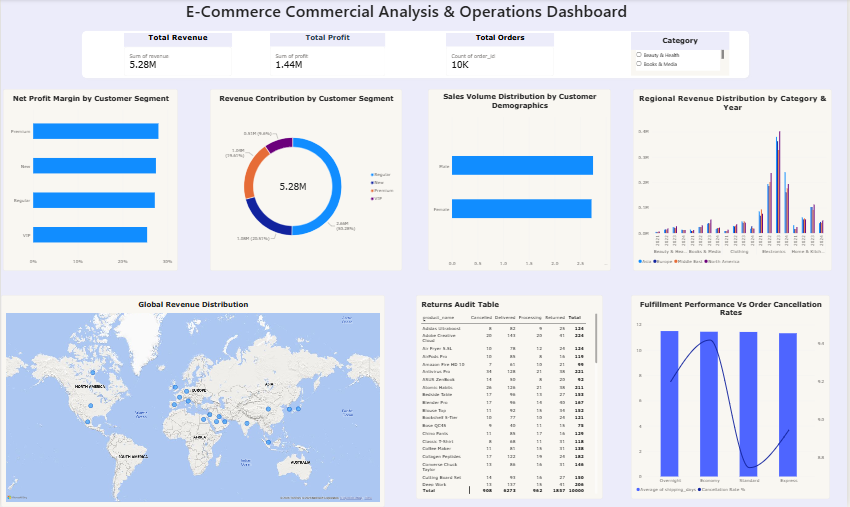

The dashboard page shown, as its layout file describes it:
{"tool":"powerbi","page":{"name":"Page 1","canvas":[2750,1650],"ordinal":0},"visuals":[{"type":"shape","box":[253.3,94.2,2185.9,172.1],"z":0},{"type":"lineClusteredColumnComboChart","title":"Fulfillment Performance Vs Order Cancellation Rates  ","fields":{"Category":["bat_commercial_analysis fact_sales_orders.shipping_method"],"Y":["Avg(bat_commercial_analysis fact_sales_orders.shipping_days)"],"Y2":["bat_commercial_analysis fact_sales_orders.Cancellation Rate %"]},"box":[2046.3,961.4,646.4,662.6],"z":1000},{"type":"cardVisual","title":"Revenue","fields":{"Data":["Sum(bat_commercial_analysis fact_sales_orders.revenue)"]},"box":[399.5,110.4,350.8,140.3],"z":2000},{"type":"cardVisual","title":"Profit","fields":{"Data":["Sum(bat_commercial_analysis fact_sales_orders.profit)"]},"box":[873.7,110.4,374.2,140.3],"z":3000},{"type":"cardVisual","title":"Total Orders ","fields":{"Data":["CountNonNull(bat_commercial_analysis fact_sales_orders.order_id)"]},"box":[1445.4,110.4,350.8,140.3],"z":4000},{"type":"map","title":"Global Revenue Distribution","fields":{"Category":["bat_commercial_analysis fact_sales_orders.country"]},"box":[0,961.4,1247.2,688.6],"z":5000},{"type":"donutChart","title":"Revenue Contribution by Customer Segment","fields":{"Category":["bat_commercial_analysis dim_customers.customer_segment"],"Y":["Sum(bat_commercial_analysis fact_sales_orders.revenue)"]},"box":[678.8,292.3,623.6,591.1],"z":6000},{"type":"clusteredBarChart","title":"Sales Volume Distribution by Customer Demographics","fields":{"Category":["bat_commercial_analysis dim_customers.customer_gender"],"Y":["Avg(bat_commercial_analysis fact_sales_orders.quantity)"]},"box":[1386.9,292.3,594.4,591.1],"z":7000},{"type":"clusteredBarChart","title":"Net Profit Margin by Customer Segment","fields":{"Category":["bat_commercial_analysis dim_customers.customer_segment"],"Y":["bat_commercial_analysis fact_sales_orders.Total Profit Margin %"]},"box":[6.5,292.3,568.4,591.1],"z":8000},{"type":"textbox","box":[194.9,0,2244.4,110.4],"z":9001},{"type":"listSlicer","title":"Category","fields":{"Values":["bat_commercial_analysis dim_products.category"]},"box":[2046.3,107.2,318.9,141.7],"z":9002},{"type":"pivotTable","title":"Returns Audit Table","fields":{"Columns":["bat_commercial_analysis fact_sales_orders.order_status"],"Rows":["bat_commercial_analysis dim_products.product_name"],"Values":["Count(bat_commercial_analysis fact_sales_orders.order_id)"]},"box":[1347.9,961.4,607.4,662.6],"z":9003},{"type":"clusteredColumnChart","title":"Regional Revenue Distribution by Category & Year","fields":{"Category":["bat_commercial_analysis dim_products.category","bat_commercial_analysis dim_date.year"],"Series":["bat_commercial_analysis dim_customers.region"],"Y":["Sum(bat_commercial_analysis fact_sales_orders.revenue)"]},"box":[2052.8,292.3,646.4,591.1],"z":9004}]}

Visuals, with their boxes in screenshot pixels (x1, y1, x2, y2), scaled from the page's 2750x1650 canvas onto the 850x507 screenshot:
shape: crop(78, 29, 754, 82)
"Fulfillment Performance Vs Order Cancellation Rates  " lineClusteredColumnComboChart: crop(632, 295, 832, 499)
"Revenue" cardVisual: crop(123, 34, 232, 77)
"Profit" cardVisual: crop(270, 34, 386, 77)
"Total Orders " cardVisual: crop(447, 34, 555, 77)
"Global Revenue Distribution" map: crop(0, 295, 385, 506)
"Revenue Contribution by Customer Segment" donutChart: crop(210, 90, 403, 271)
"Sales Volume Distribution by Customer Demographics" clusteredBarChart: crop(429, 90, 612, 271)
"Net Profit Margin by Customer Segment" clusteredBarChart: crop(2, 90, 178, 271)
textbox: crop(60, 0, 754, 34)
"Category" listSlicer: crop(632, 33, 731, 76)
"Returns Audit Table" pivotTable: crop(417, 295, 604, 499)
"Regional Revenue Distribution by Category & Year" clusteredColumnChart: crop(635, 90, 834, 271)
